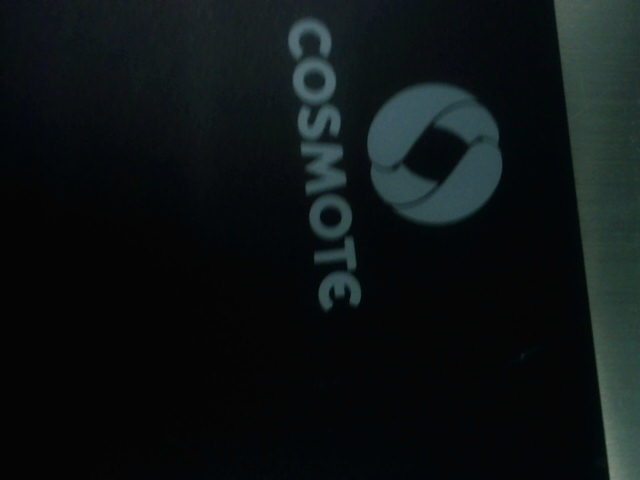AU_COSMOTE: (279, 15, 510, 314)
